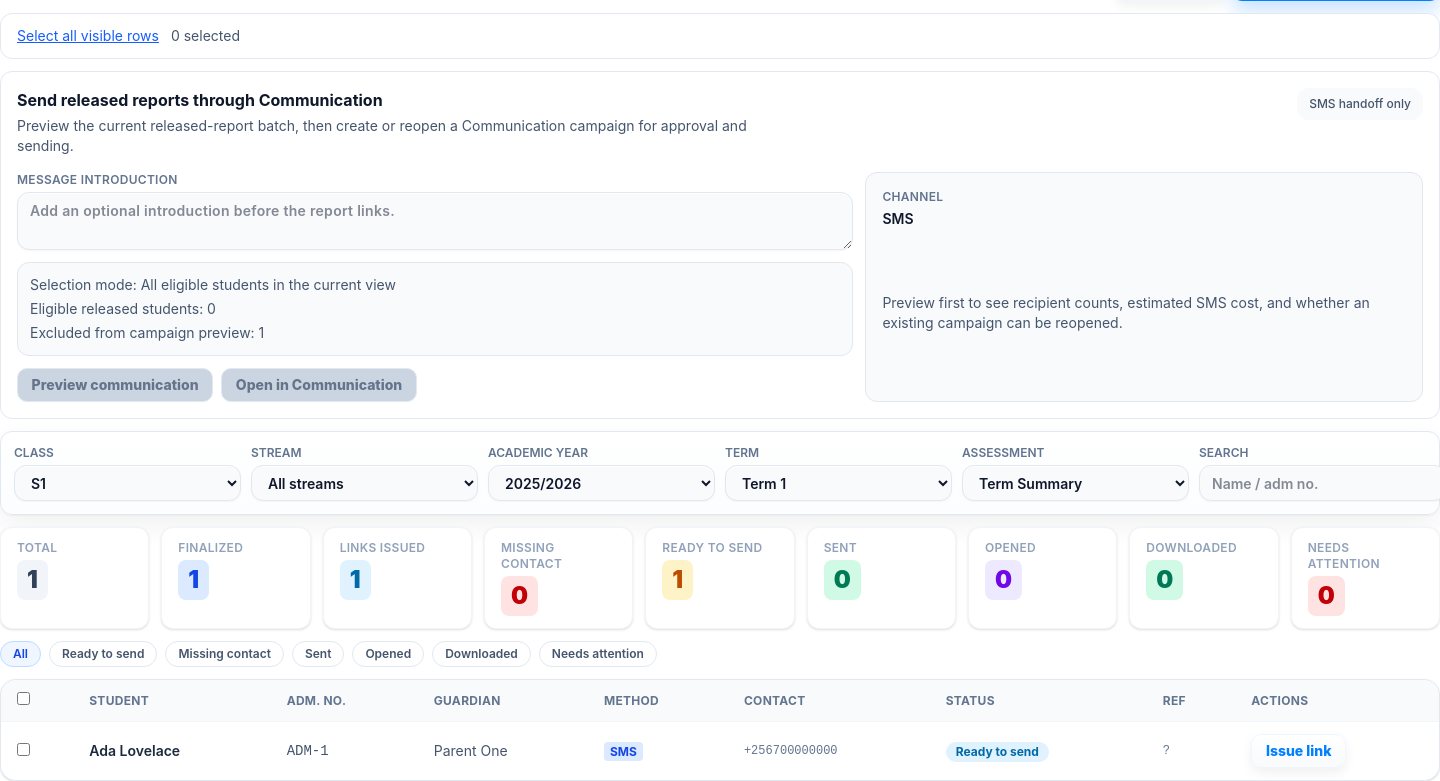
Test: ReleaseCenterPage › stores selected bulk-issued links in state so the row shows a working link action
(page scrolled)
Expected: the text "Ada Lovelace" is shown, 73,722 -> 271,780
Step 1. Click the checkbox next to "Ada Lovelace" → (24, 750), box 17,743 -> 30,756
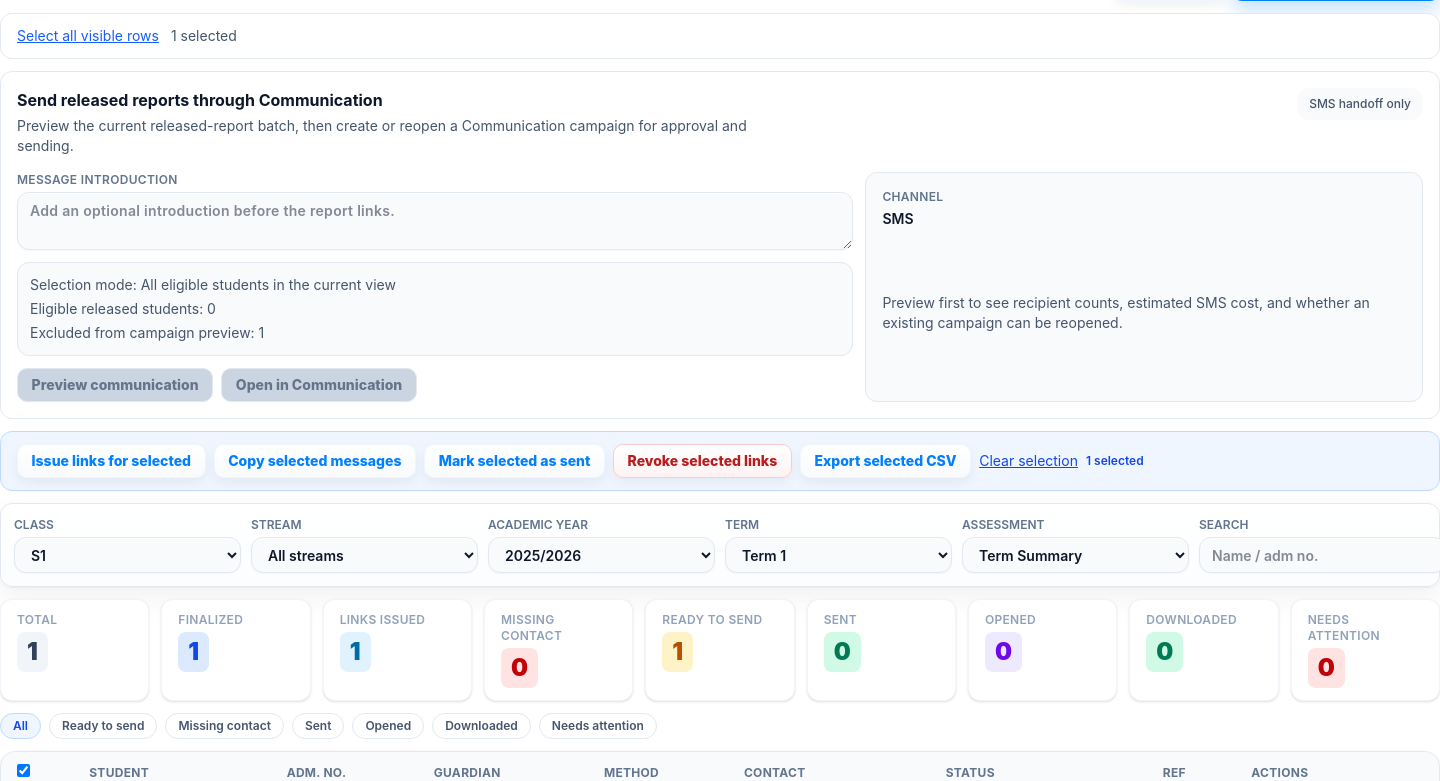
Step 2. Click the button "Issue links for selected" → (111, 461), box 17,444 -> 206,478
(page scrolled)
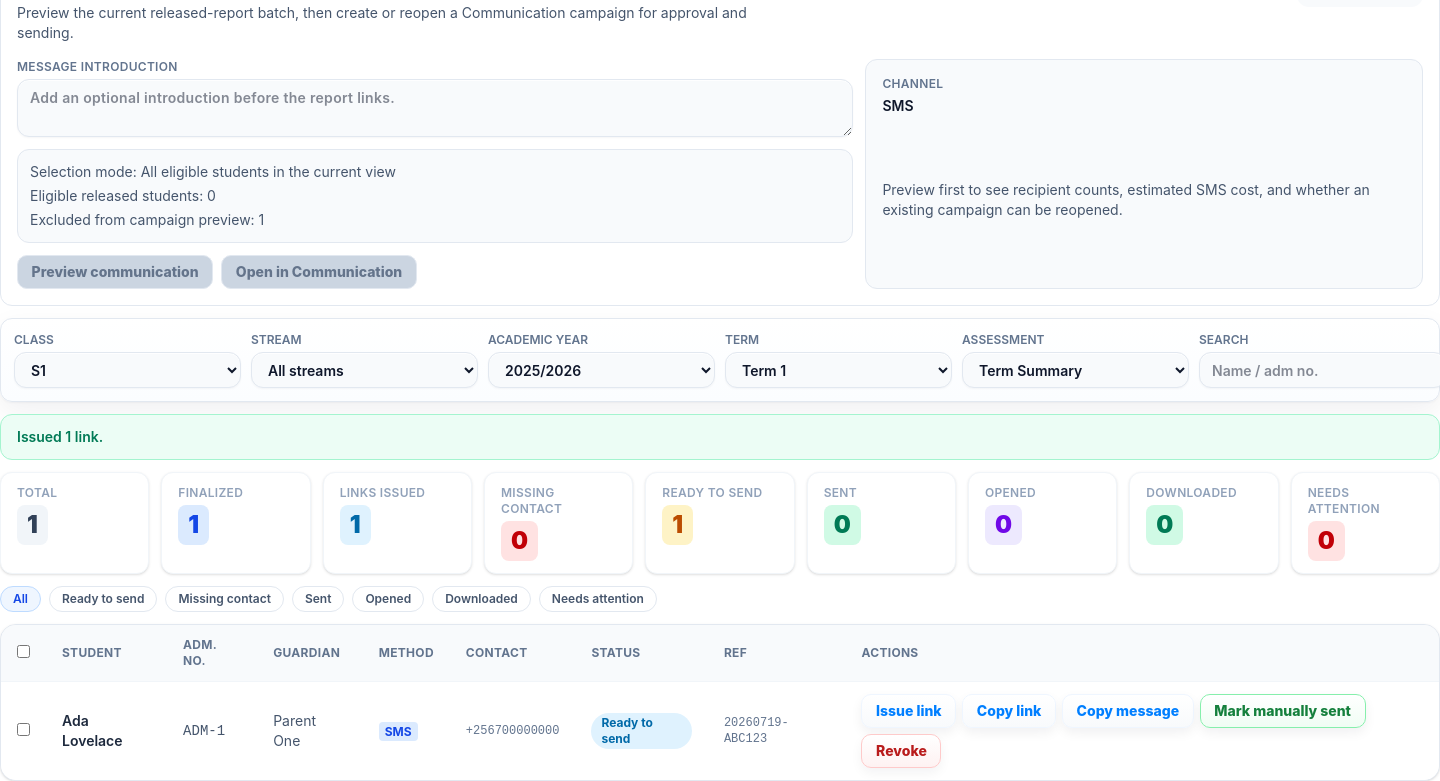
Expected: the text "Ada Lovelace" is shown, 46,682 -> 167,780
Result: the button "Copy link" is shown at 962,694 -> 1056,728
